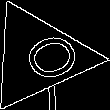O_SW: (2, 26, 75, 88)
